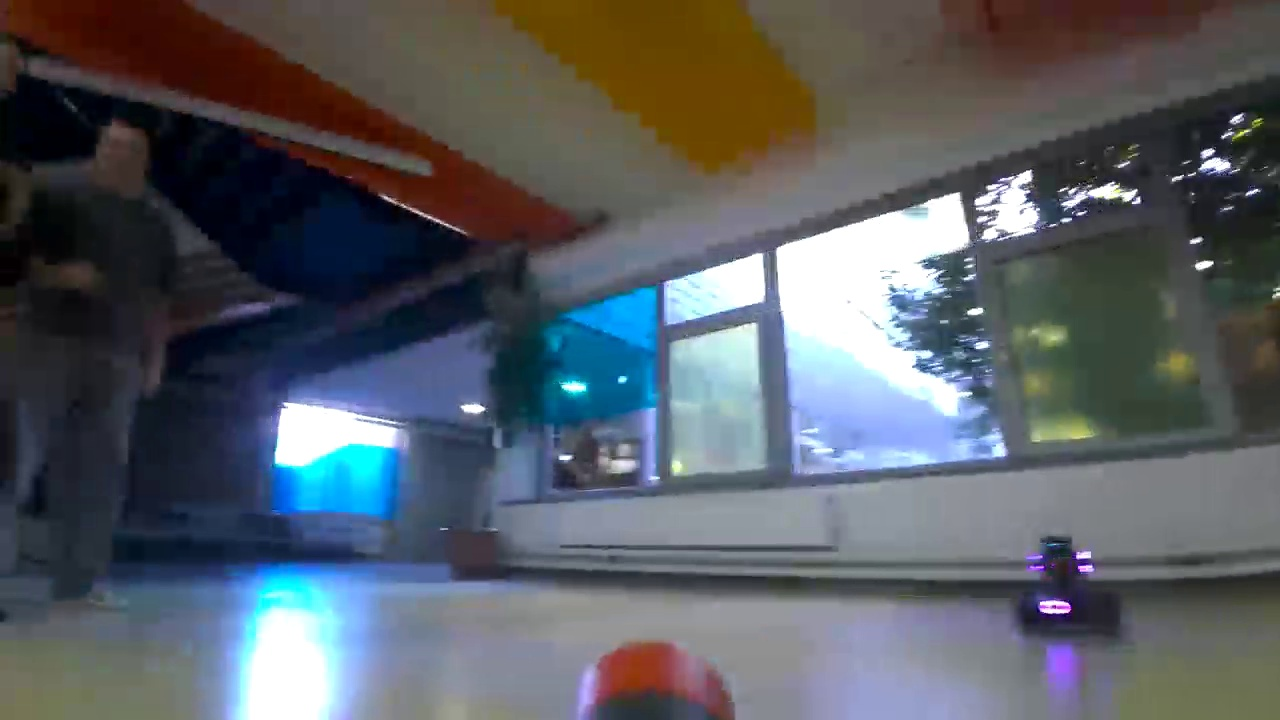robot: (1015, 534, 1127, 634)
